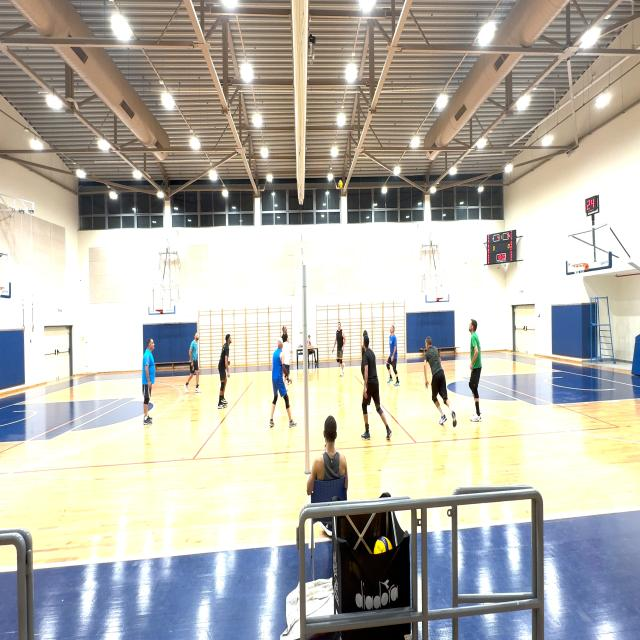volleyball: (373, 536, 393, 555), (338, 180, 343, 189)
